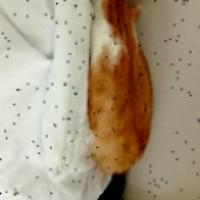asleep: (85, 0, 159, 173)
